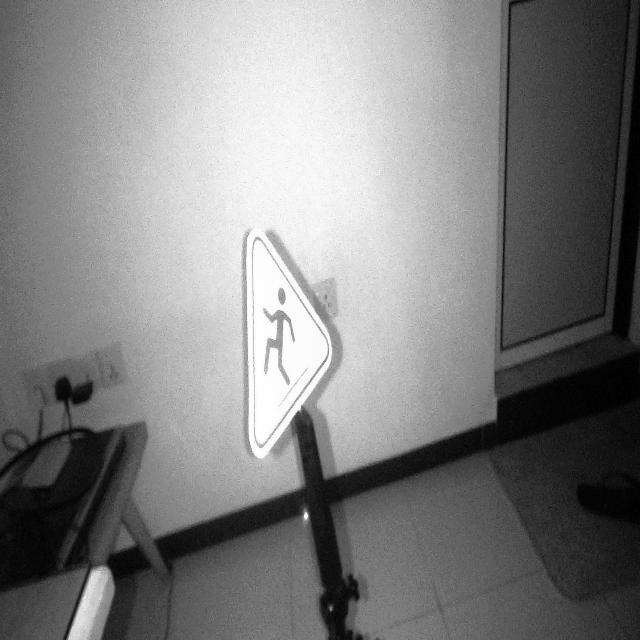Sign: (245, 225, 333, 461)
